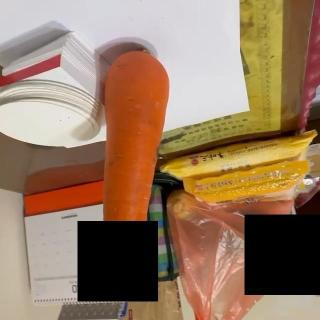carrot: (102, 48, 170, 282)
